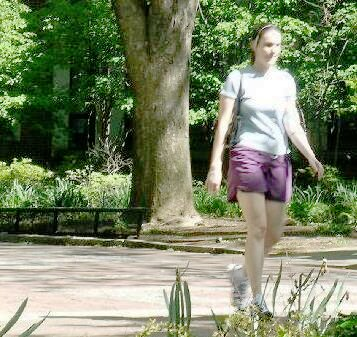person: (212, 20, 327, 323)
